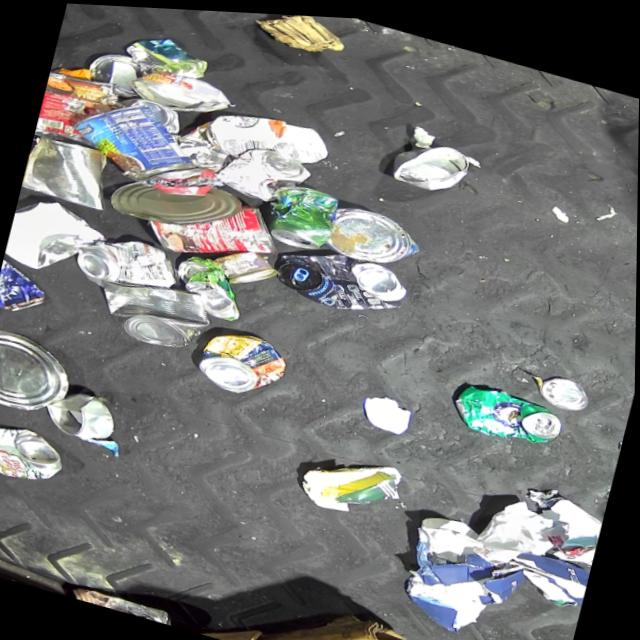can: (60, 87, 206, 196), (140, 175, 284, 276), (271, 232, 411, 322), (88, 264, 216, 356), (106, 159, 242, 241), (70, 223, 183, 304), (449, 373, 567, 448), (20, 129, 118, 211), (193, 320, 291, 401), (0, 325, 79, 422), (211, 135, 313, 210), (325, 196, 424, 271), (33, 65, 118, 151), (125, 60, 233, 123), (260, 176, 340, 253), (388, 127, 476, 196), (167, 249, 250, 321), (0, 413, 70, 491), (40, 382, 118, 445), (71, 582, 177, 623), (208, 239, 280, 293), (0, 251, 55, 319), (81, 45, 146, 99), (113, 91, 183, 133), (537, 365, 592, 407)
